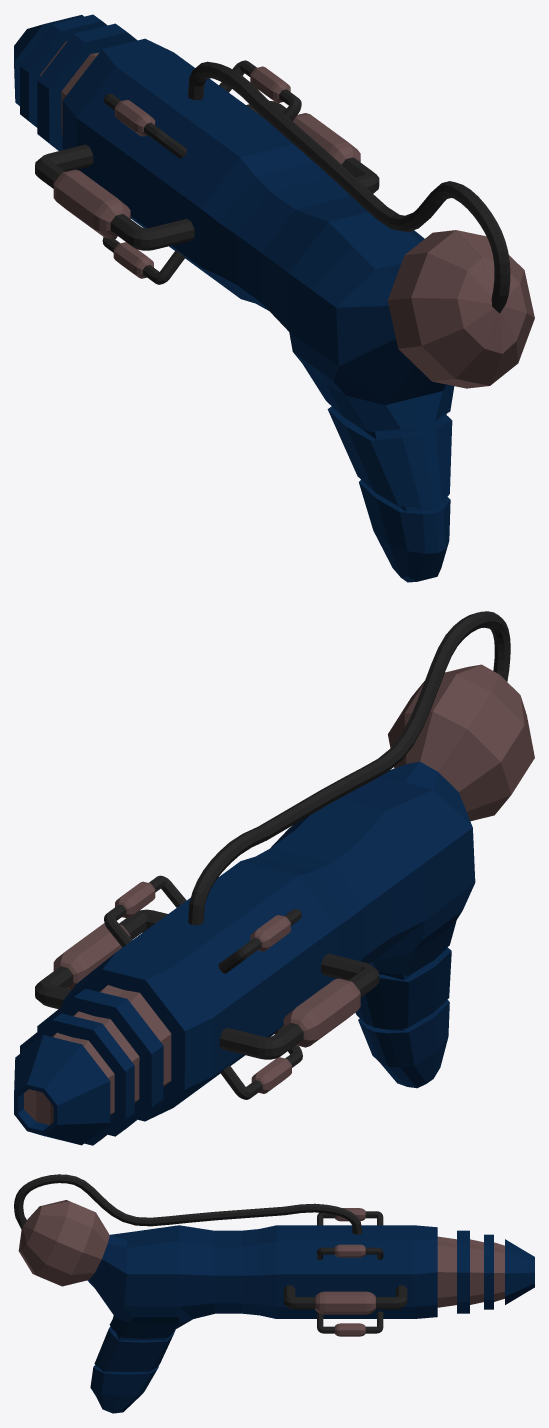
File: PlasmaGun.fbx
3 renders of one model, top to bottom at view 1: azimuth 30°, elevation 25°; view 2: azimuth 150°, elevation 25°; view 3: azimuth 270°, elevation 25°, orthographic. The views are drawn at different scales.
Visible parts, largest first — view 1: Cylinder001; view 2: Cylinder001; view 3: Cylinder001.
Part boxes in pixels (x1,y1,x2,y2): Cylinder001: (14, 14, 534, 582); Cylinder001: (14, 611, 534, 1145); Cylinder001: (14, 1174, 534, 1413).
Size of the model in its own units: 362 by 561 by 1120.
